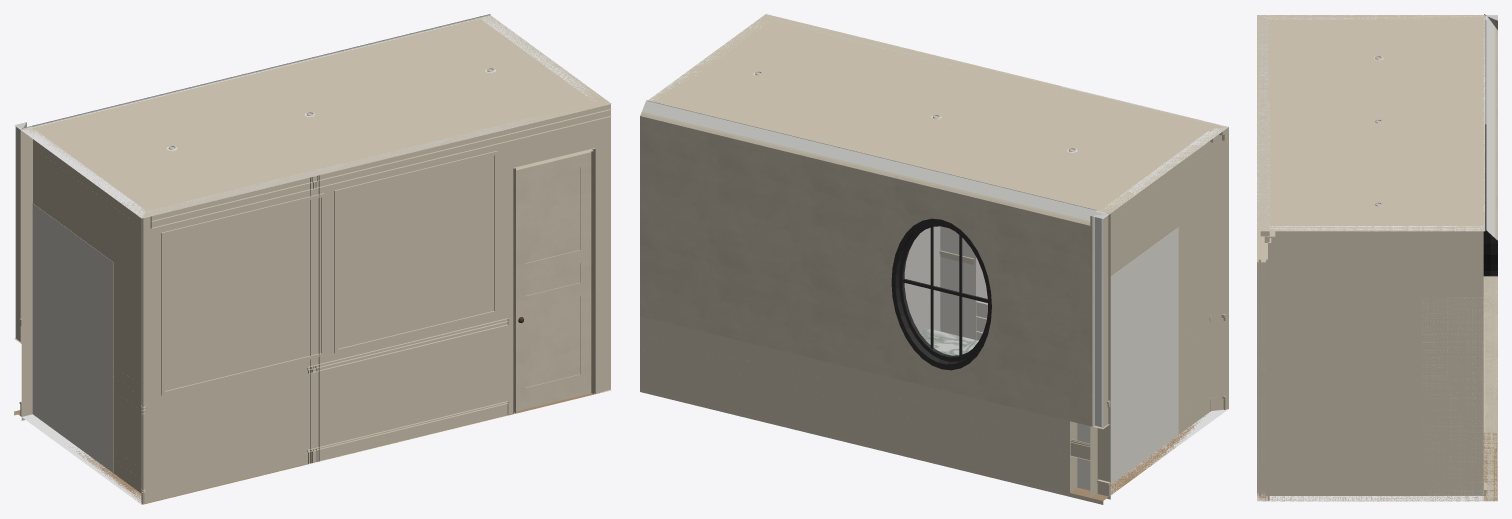
Rendered from primary-loli-closet-65354cc57629.glb.
3 views of the same model, side by side, from view 1: azimuth 30°, elevation 25°; view 2: azimuth 150°, elevation 25°; view 3: azimuth 270°, elevation 25° (orthographic). The views are drawn at different scales.
Parts seen in each view (by area): view 1: primary-loli-closet-21ac2ed1b4475155, primary-loli-closet-9d91b47435c6fb33, primary-loli-closet-6d601da8073fdc0e, primary-loli-closet-77b772996f7f67b8, primary-loli-closet-69af8f587252f9fa, primary-loli-closet-e7983be95ab098c1, primary-loli-closet-e48b5483df8cacdb, primary-loli-closet-40ba494a131a1b09, primary-loli-closet-c8a93ab7b69c3b53, primary-loli-closet-9e6cdde78fc443e1, primary-loli-closet-08e5178be0cf1e43, primary-loli-closet-3a163573517a0810 (+10 smaller); view 2: primary-loli-closet-3763e2fb8578d282, primary-loli-closet-9d91b47435c6fb33, primary-loli-closet-3a806c711886e947, primary-loli-closet-69af8f587252f9fa, primary-loli-closet-77b772996f7f67b8, primary-loli-closet-36e90e3a4ab3386f, primary-loli-closet-91eb0f90e9e94d87, primary-loli-closet-28fa16303b99ff8f, primary-loli-closet-2575515a05775d9e, primary-loli-closet-254dccfc69fd7b68, primary-loli-closet-3a163573517a0810, primary-loli-closet-4717698be62d0b44 (+7 smaller); view 3: primary-loli-closet-95b94d4b81cfb474, primary-loli-closet-9d91b47435c6fb33, primary-loli-closet-3a806c711886e947, primary-loli-closet-91eb0f90e9e94d87, primary-loli-closet-21ac2ed1b4475155, primary-loli-closet-9e6cdde78fc443e1, primary-loli-closet-4717698be62d0b44, primary-loli-closet-3a163573517a0810, primary-loli-closet-2575515a05775d9e, primary-loli-closet-982e9316be37b1b4, primary-loli-closet-36e90e3a4ab3386f, primary-loli-closet-942c52dd436cf41a (+6 smaller).
Part boxes in pixels (x1,y1,x2,y2): primary-loli-closet-21ac2ed1b4475155: (142,103,611,504); primary-loli-closet-9d91b47435c6fb33: (21,15,611,218); primary-loli-closet-6d601da8073fdc0e: (516,152,591,411); primary-loli-closet-77b772996f7f67b8: (32,203,113,472); primary-loli-closet-69af8f587252f9fa: (22,128,145,504); primary-loli-closet-e7983be95ab098c1: (20,15,490,343); primary-loli-closet-e48b5483df8cacdb: (310,175,319,462); primary-loli-closet-40ba494a131a1b09: (161,193,324,395); primary-loli-closet-c8a93ab7b69c3b53: (334,151,497,353); primary-loli-closet-9e6cdde78fc443e1: (513,148,595,413); primary-loli-closet-08e5178be0cf1e43: (150,104,611,228); primary-loli-closet-3a163573517a0810: (141,98,603,211); primary-loli-closet-3763e2fb8578d282: (640,113,1092,426); primary-loli-closet-9d91b47435c6fb33: (647,14,1227,214); primary-loli-closet-3a806c711886e947: (640,316,1077,492); primary-loli-closet-69af8f587252f9fa: (1099,127,1228,495); primary-loli-closet-77b772996f7f67b8: (1077,227,1178,490); primary-loli-closet-36e90e3a4ab3386f: (891,218,991,370); primary-loli-closet-91eb0f90e9e94d87: (642,100,1107,220); primary-loli-closet-28fa16303b99ff8f: (924,226,987,340); primary-loli-closet-2575515a05775d9e: (640,388,1205,504); primary-loli-closet-254dccfc69fd7b68: (1093,215,1103,428); primary-loli-closet-3a163573517a0810: (758,18,1214,142); primary-loli-closet-4717698be62d0b44: (904,230,924,332); primary-loli-closet-95b94d4b81cfb474: (1269,226,1483,501); primary-loli-closet-9d91b47435c6fb33: (1257,14,1487,231); primary-loli-closet-3a806c711886e947: (1483,276,1497,501); primary-loli-closet-91eb0f90e9e94d87: (1485,15,1494,432); primary-loli-closet-21ac2ed1b4475155: (1257,16,1269,501); primary-loli-closet-9e6cdde78fc443e1: (1257,236,1265,493); primary-loli-closet-4717698be62d0b44: (1421,297,1483,495); primary-loli-closet-3a163573517a0810: (1268,19,1275,242); primary-loli-closet-2575515a05775d9e: (1257,432,1497,501); primary-loli-closet-982e9316be37b1b4: (1258,15,1266,242); primary-loli-closet-36e90e3a4ab3386f: (1483,124,1497,276); primary-loli-closet-942c52dd436cf41a: (1258,243,1260,495).
Bounding box in the file's own units: 4.98 × 2.95 × 2.34.
22 materials, 5 textured.
